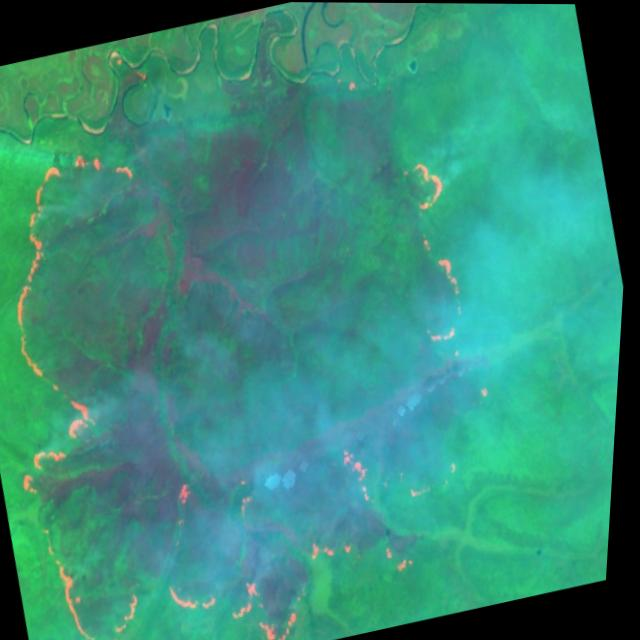fire: (0, 83, 460, 640), (385, 148, 487, 351)
